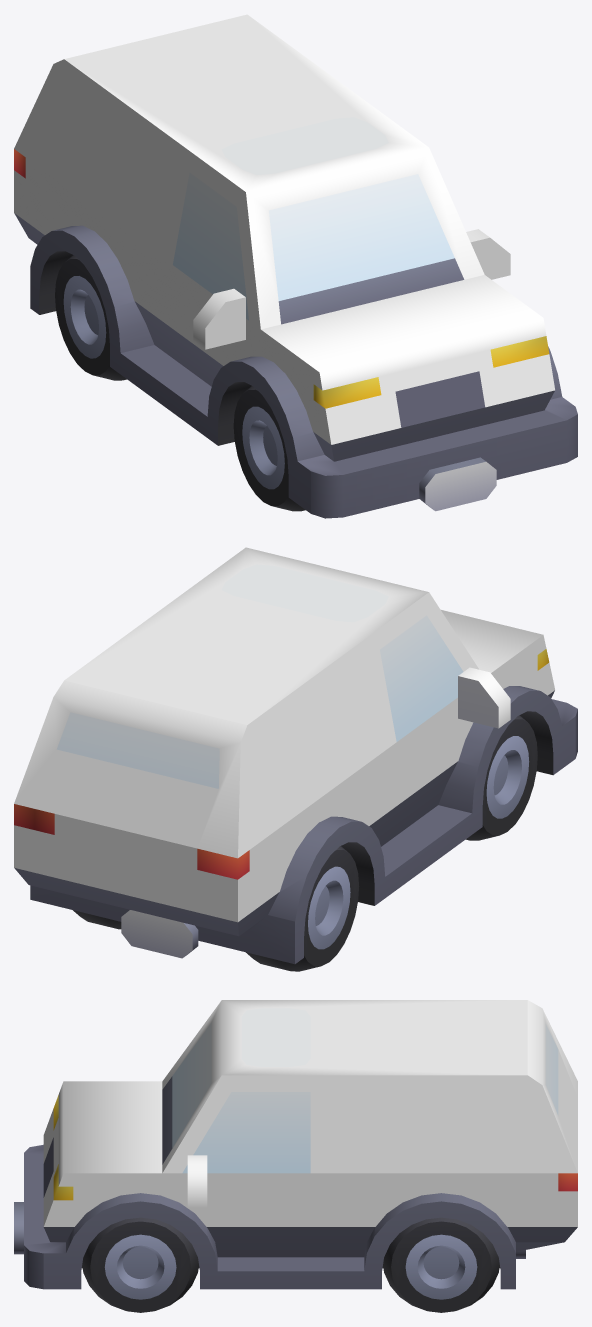
The model's file is suv-luxury.glb.
3 views of the same model, one above another, from view 1: azimuth 30°, elevation 25°; view 2: azimuth 150°, elevation 25°; view 3: azimuth 270°, elevation 25° (orthographic). The views are drawn at different scales.
Parts seen in each view (by area): view 1: body, wheel-front-right, wheel-back-right; view 2: body, wheel-back-right, wheel-front-right; view 3: body, wheel-back-left, wheel-front-left.
Boxes of the visible parts, box(x1,y1,x2,y2) form: body: box(14, 14, 577, 518); wheel-front-right: box(233, 386, 305, 511); wheel-back-right: box(55, 255, 126, 380); body: box(14, 547, 577, 964); wheel-back-right: box(246, 846, 359, 971); wheel-front-right: box(466, 715, 537, 840); body: box(14, 1000, 577, 1289); wheel-back-left: box(383, 1217, 499, 1312); wheel-front-left: box(82, 1217, 198, 1312).
Size of the model in its own units: 1.5 by 1.3 by 2.85.
2 materials, 1 textured.
